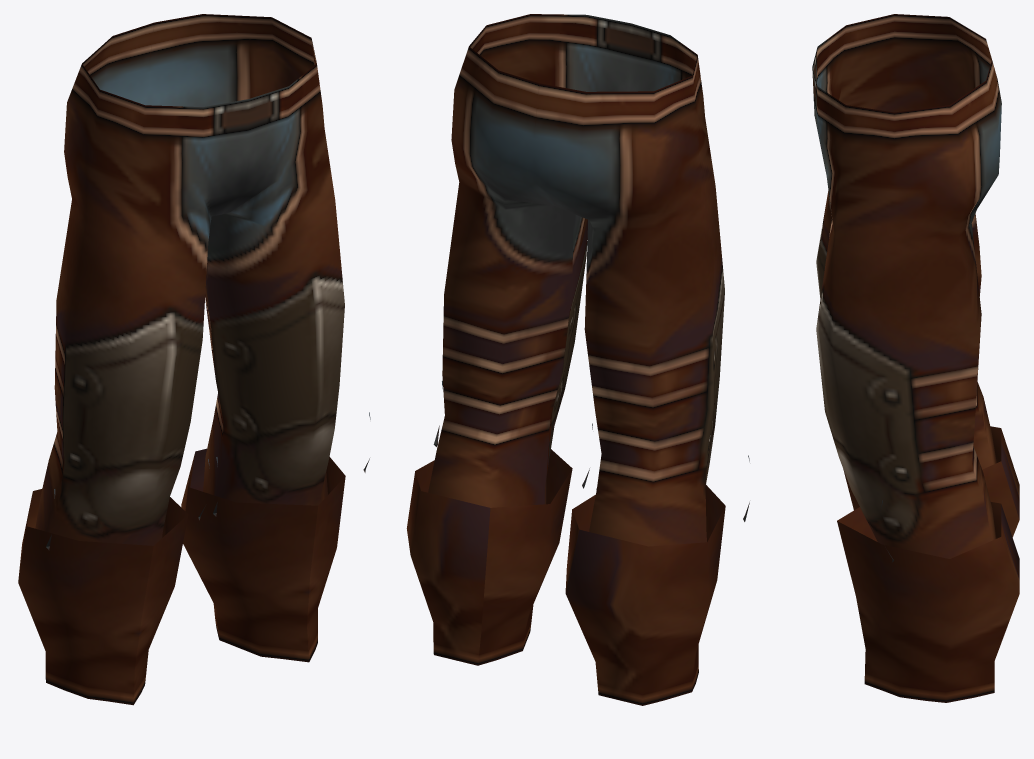
File: hum_engineer_07_029478b2.glb
3 renders of one model, left to right at view 1: azimuth 30°, elevation 25°; view 2: azimuth 150°, elevation 25°; view 3: azimuth 270°, elevation 25°, orthographic. The views are drawn at different scales.
Size of the model in its own units: 0.639 by 1.25 by 0.4301.
1 material, 1 textured.
